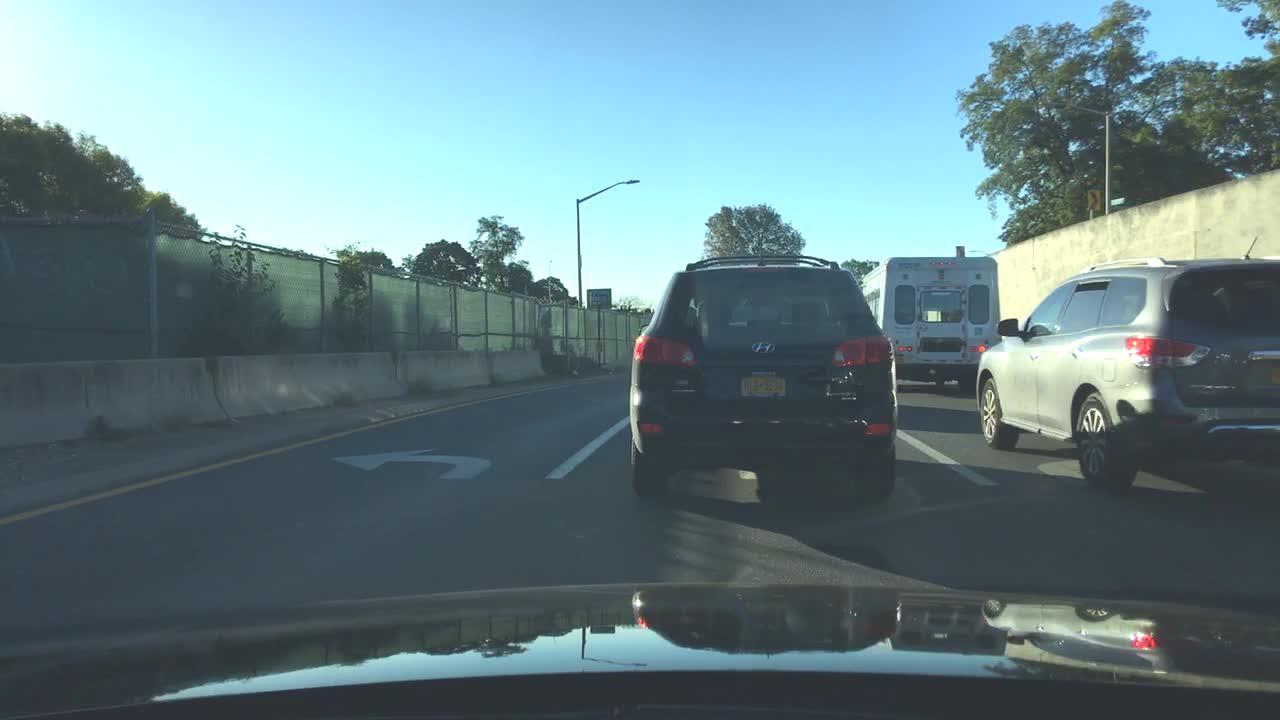Hyundai: (745, 336, 779, 362)
